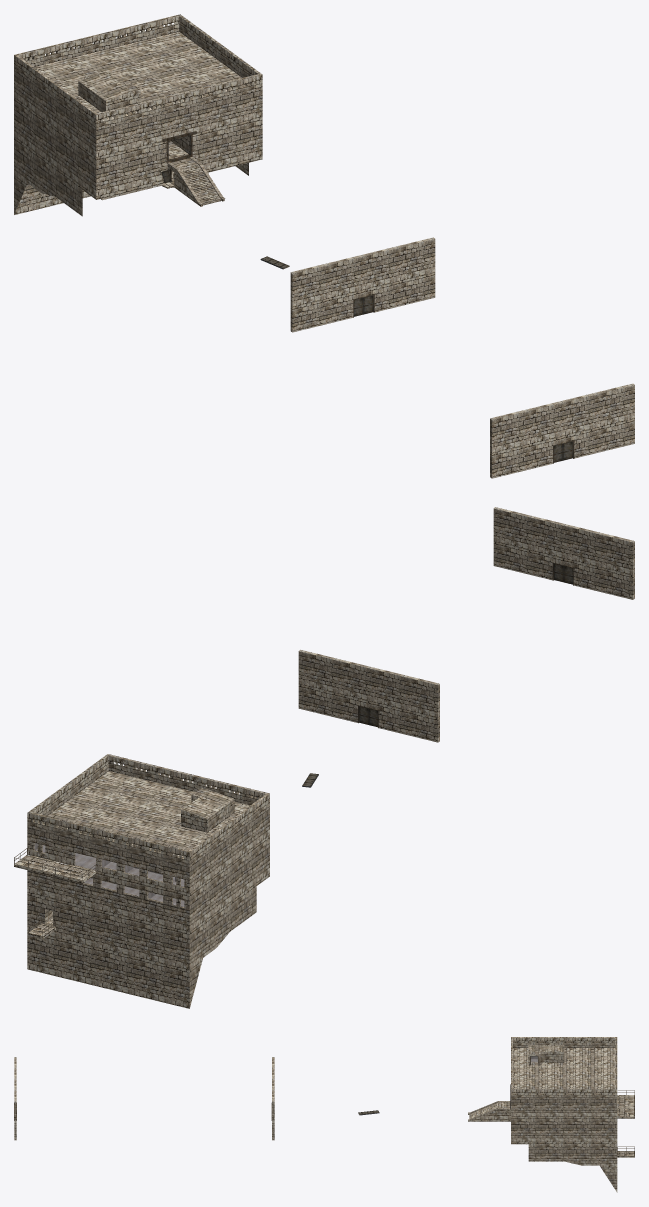
The model's file is Structures.FBX.
The picture shows the model from 3 angles, top to bottom: view 1: azimuth 30°, elevation 25°; view 2: azimuth 150°, elevation 25°; view 3: azimuth 270°, elevation 25°; orthographic projection. The views are drawn at different scales.
Visible parts, largest first — view 1: MainBuilding Outer, Barricade Mid, Barricade Front, Entry Stair; view 2: MainBuilding Outer, Barricade Front, Barricade Mid, MainBuilding Interior; view 3: MainBuilding Outer, Barricade Front, Barricade Mid.
Part boxes in pixels (x1,y1,x2,y2): MainBuilding Outer: (14,14,262,216); Barricade Mid: (290,237,435,332); Barricade Front: (490,383,634,478); Entry Stair: (181,166,221,205); MainBuilding Outer: (14,754,269,1008); Barricade Front: (493,507,634,599); Barricade Mid: (298,649,439,742); MainBuilding Interior: (34,843,184,906); MainBuilding Outer: (468,1037,634,1192); Barricade Front: (14,1057,16,1140); Barricade Mid: (272,1057,274,1140).
Size of the model in its own units: 35.6 by 33.09 by 178.
